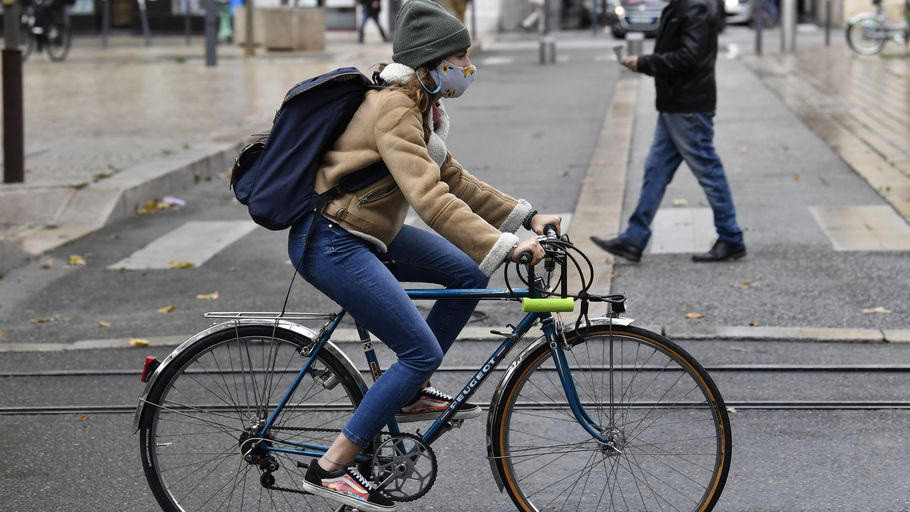with_mask: (415, 26, 476, 109)
